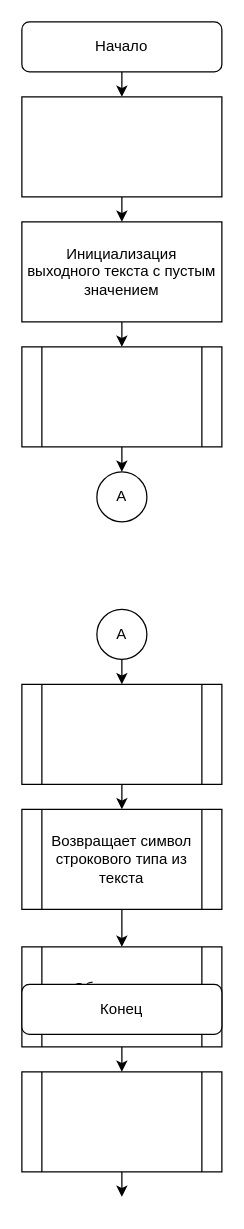
The diagram is 244 pixels wide and 1229 high, and some of its shapes have lost their labels. The centre of each missing label's shape, as x and y in pixels:
"Ввод исходного текста" belongs at point (121, 396).
"Вывод выходного текста" belongs at point (121, 1121).
"Инициализация сканера для ввода текста" belongs at point (121, 146).
"Удаление пробелов и поиск цифр в тексте, возвращает истину или ложь" belongs at point (121, 733).
